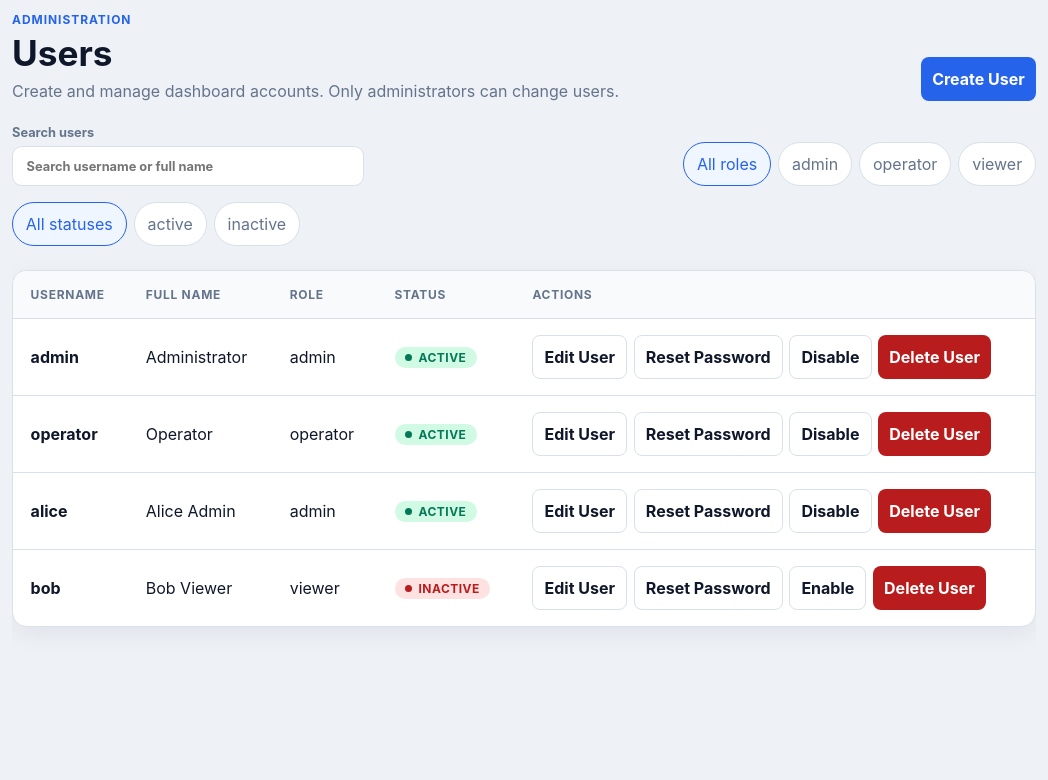
Scenario: Users page › filters users by role
This screenshot has width=1048, height=780.
Expected: the text "alice" is shown, top-left (13, 472), bottom-right (128, 549)
Click the button "viewer" at (997, 164), box top-left (958, 142), bottom-right (1036, 186)
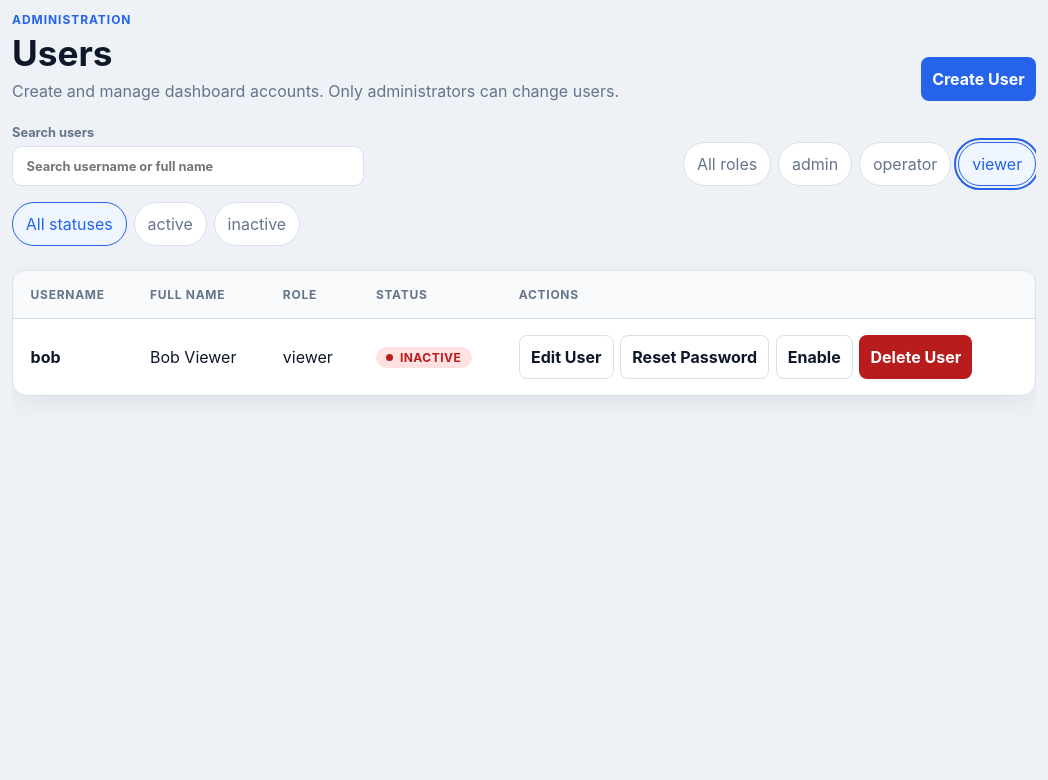
Expected: the text "bob" is shown, top-left (13, 318), bottom-right (132, 395)
Now the text "alice" is gone
